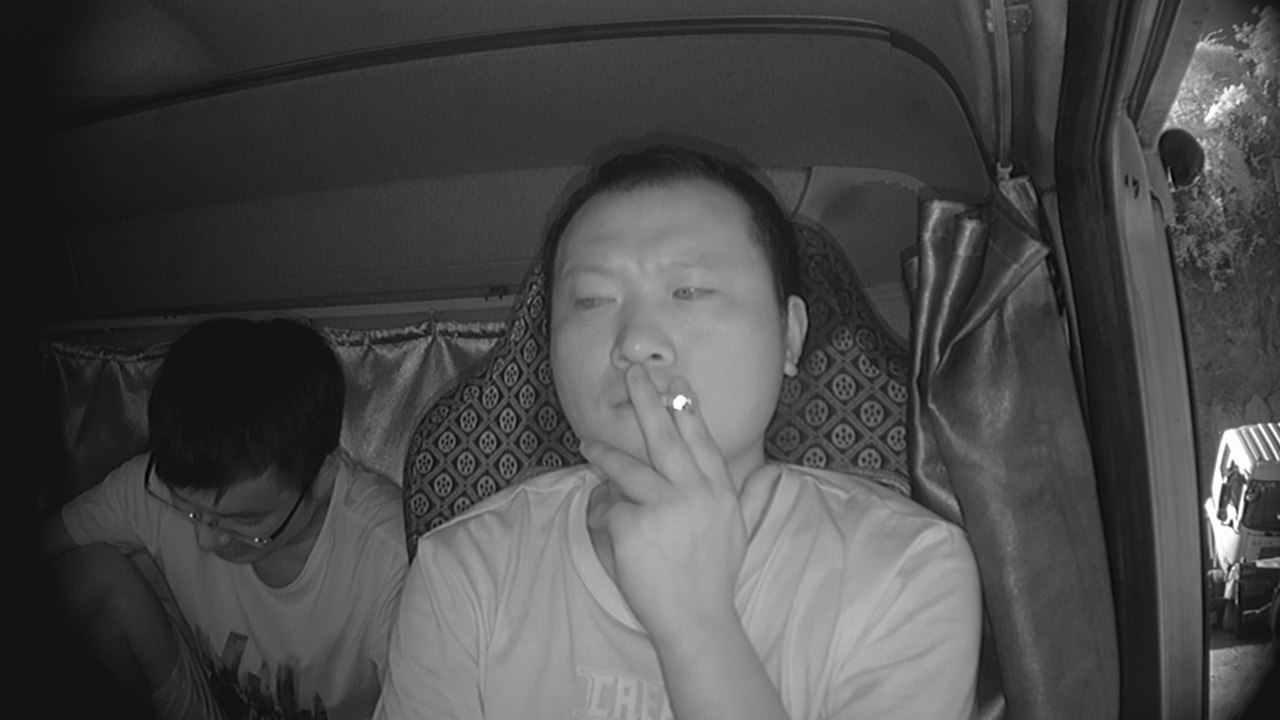hand: (563, 367, 756, 597)
